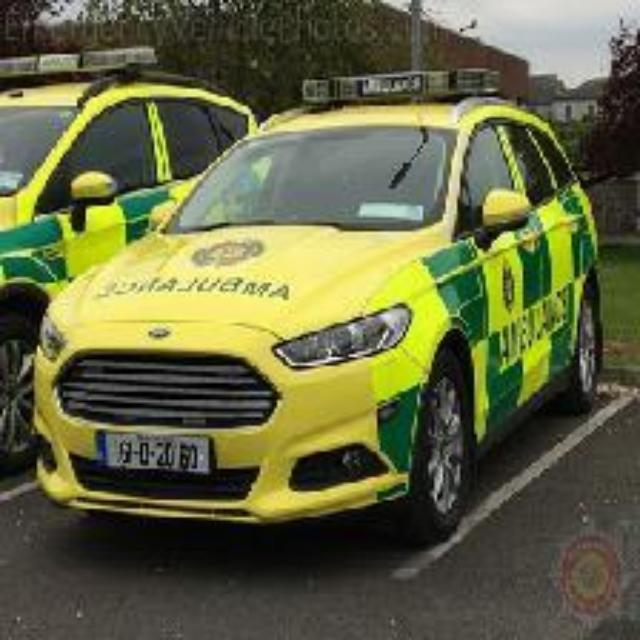emergency: (34, 75, 606, 543), (0, 84, 292, 470)
